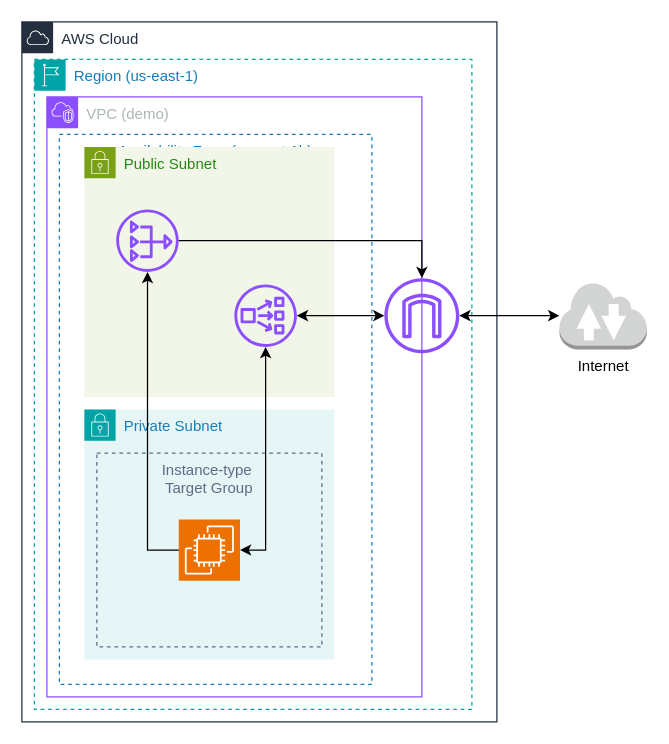
The diagram is 669 pixels wide and 744 high, and some of its shapes have lost their labels. The shapes that lost their labels are listed below. From the top down, each one's centre as x and y in pixels, then its label:
At (147,240): "NAT Gateway".
At (265,315): "Network Load Balancer".
At (421,315): "Internet Gateway".
At (209,549): "Nginx Docker Container".
